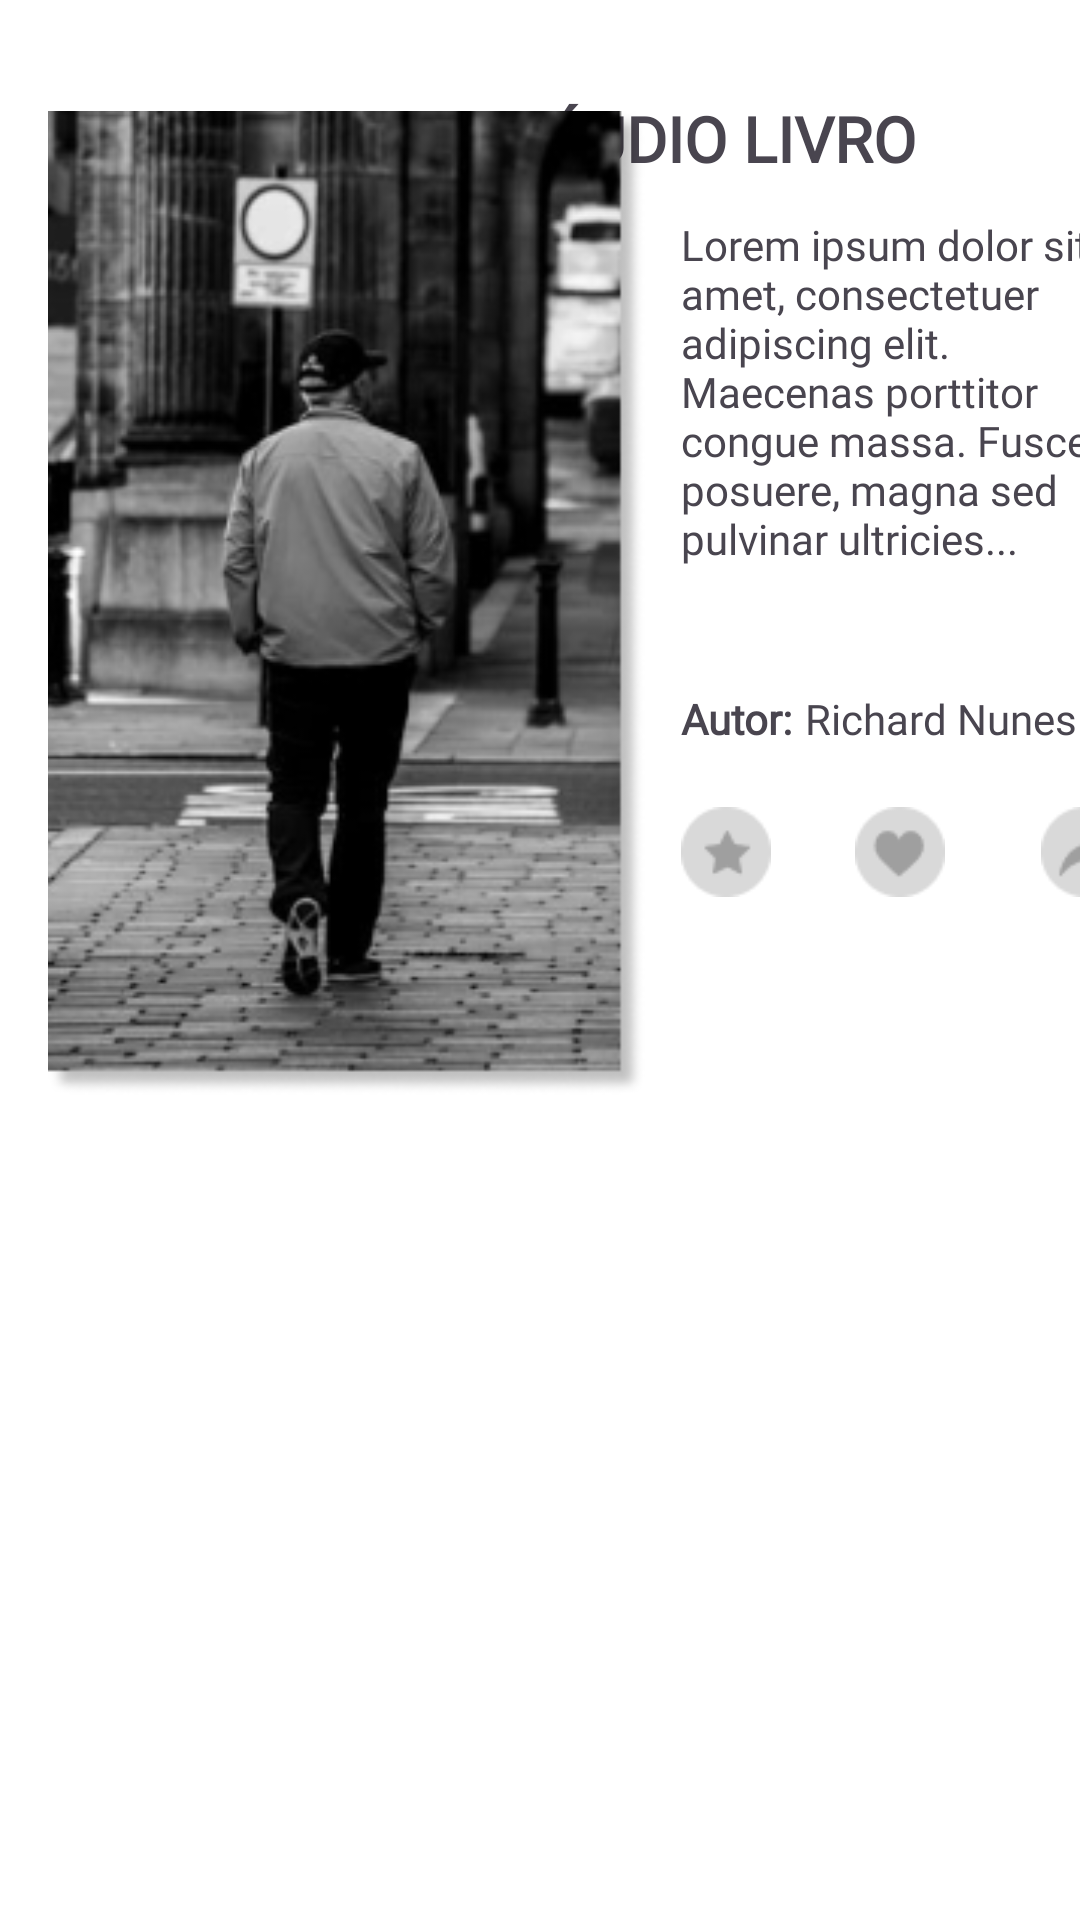

Point at icon controls on the screen. Image size 1080w x 1920h, points as (x=x, y=y).
heart: (x=900, y=852)
star: (x=726, y=852)
